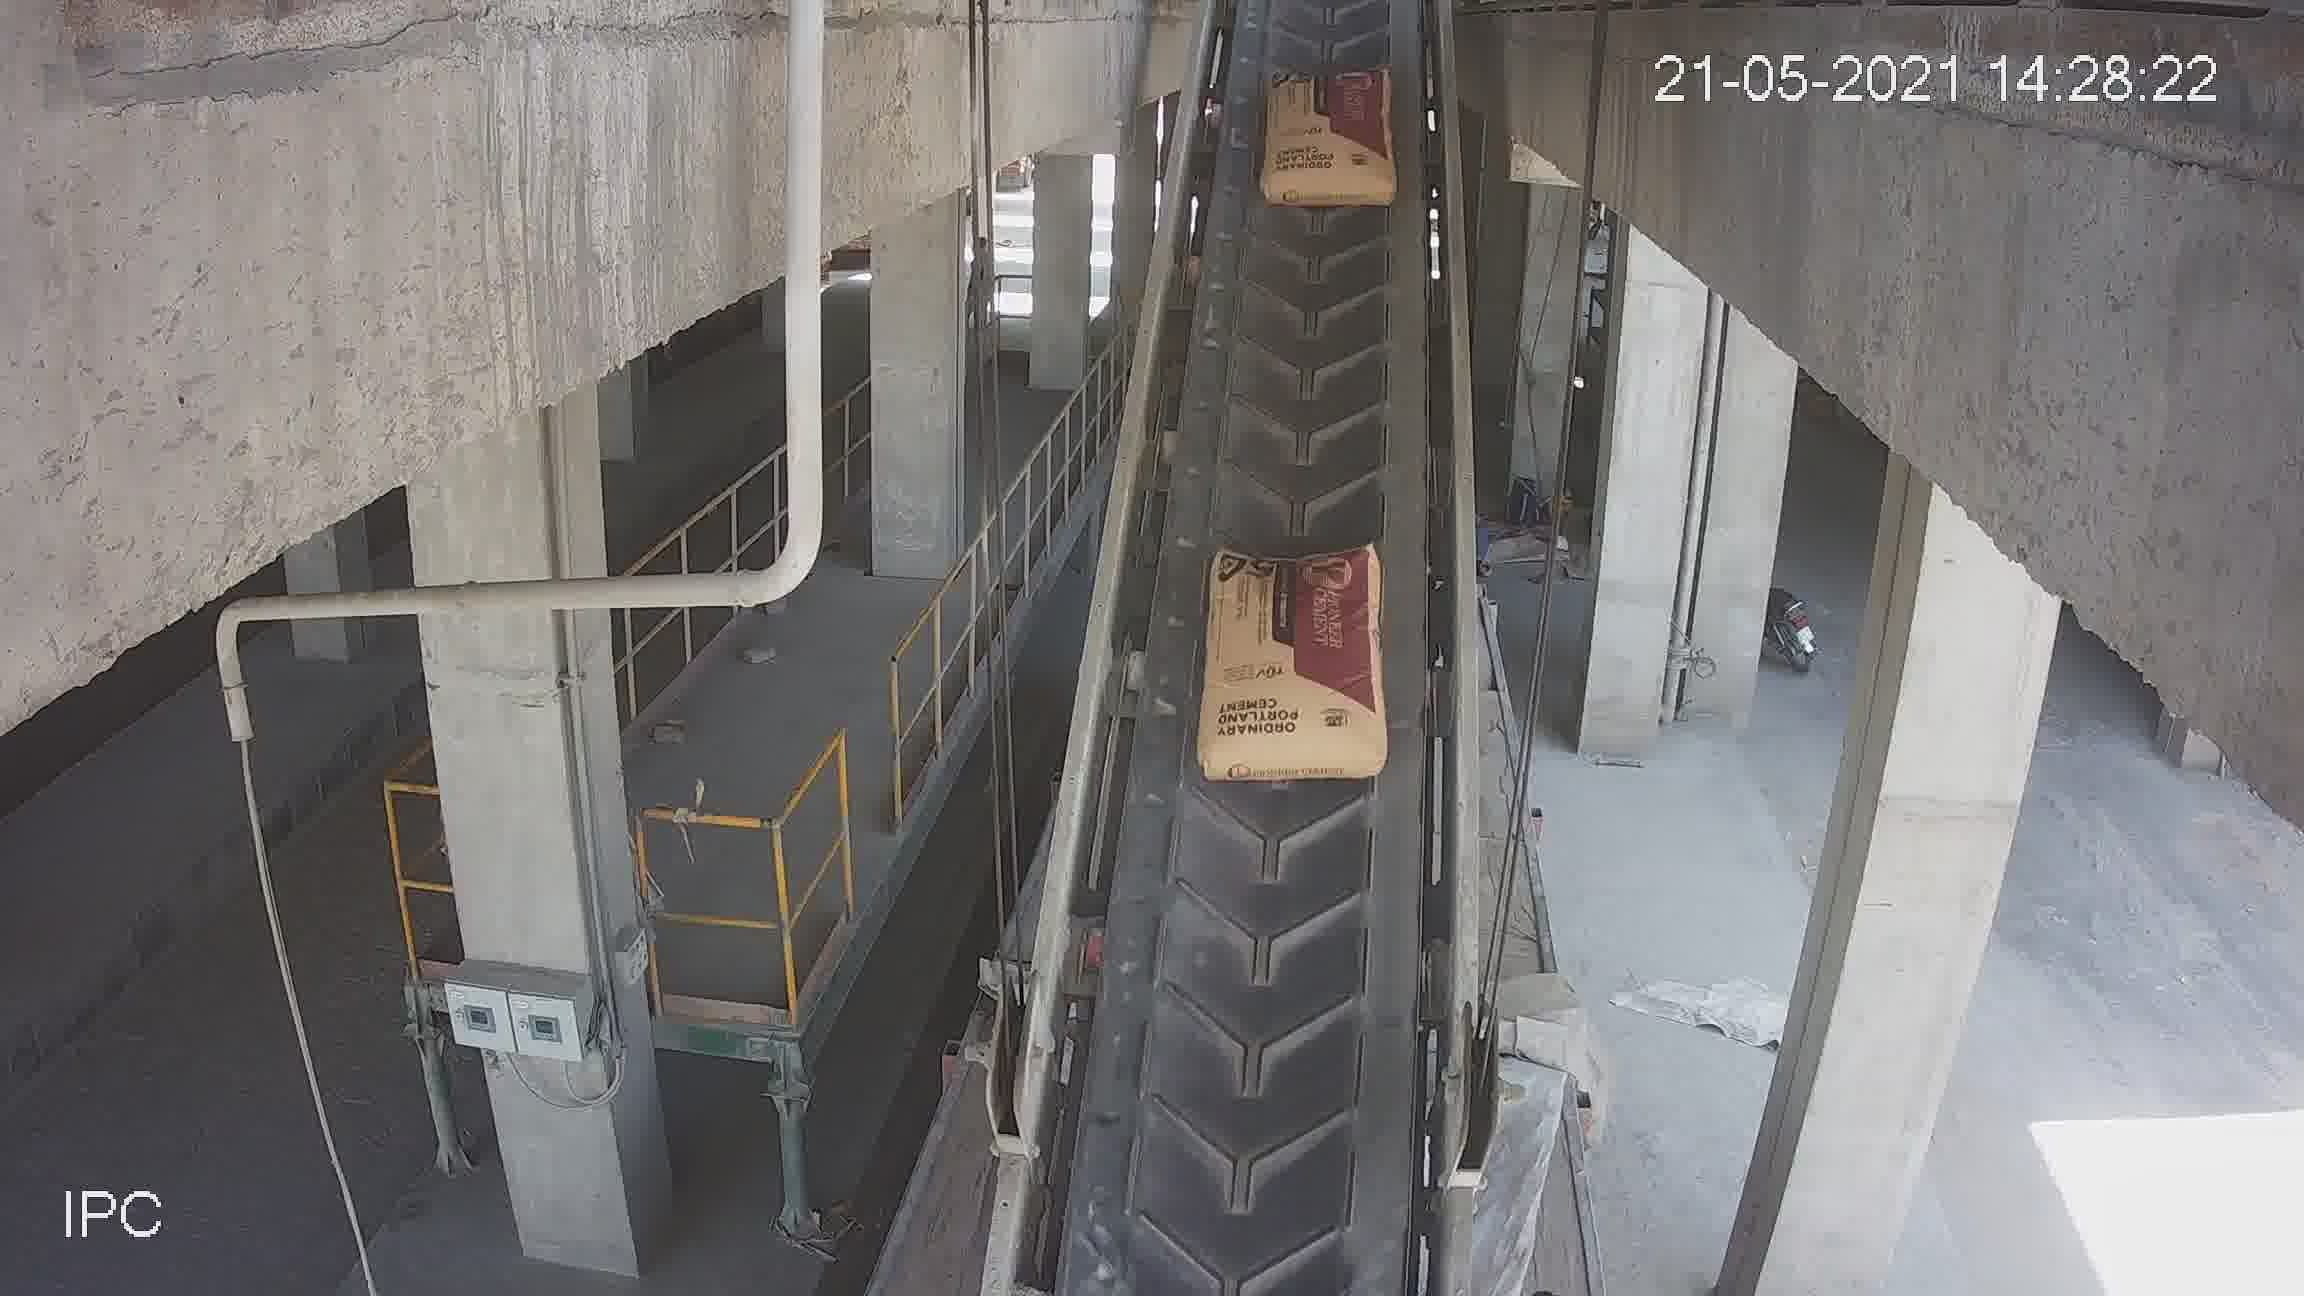bag: (1218, 559, 1391, 783), (1269, 78, 1389, 201)
belt: (1032, 17, 1491, 1269)
